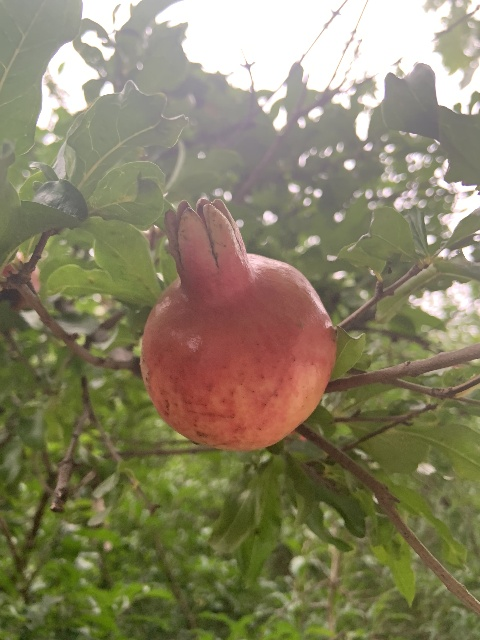ripe: (139, 197, 338, 450)
